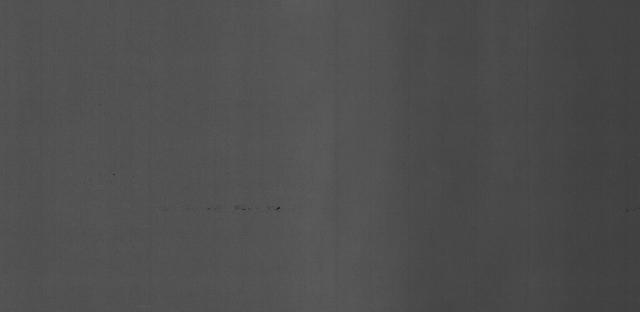inclusion: (269, 201, 285, 219), (230, 202, 255, 213)
